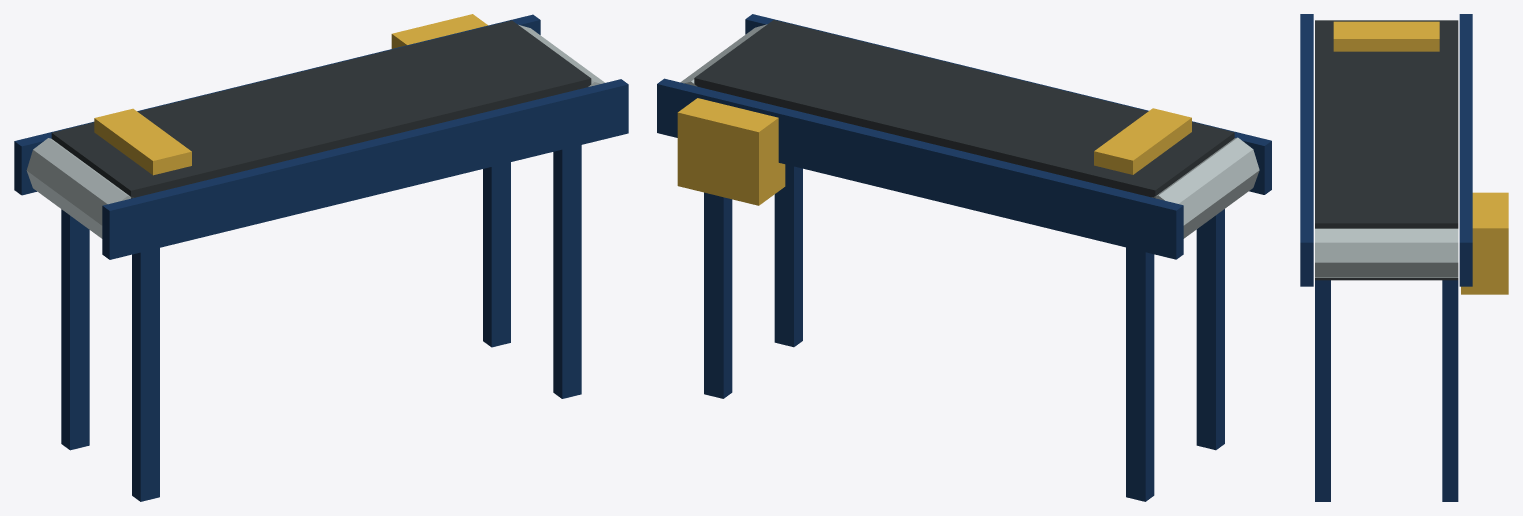
3 renders of one model, left to right at view 1: azimuth 30°, elevation 25°; view 2: azimuth 150°, elevation 25°; view 3: azimuth 270°, elevation 25°, orthographic. The views are drawn at different scales.
Parts seen in each view (by area): view 1: Belt and carriers, Frame and motor, Trestles, Return rollers; view 2: Belt and carriers, Frame and motor, Trestles, Return rollers; view 3: Belt and carriers, Frame and motor, Trestles, Return rollers.
Boxes of the visible parts, x1,y1,x2,y2 form: Belt and carriers: [51, 20, 591, 198]; Frame and motor: [14, 14, 628, 259]; Trestles: [61, 145, 581, 501]; Return rollers: [26, 24, 604, 238]; Belt and carriers: [694, 20, 1234, 198]; Frame and motor: [657, 14, 1271, 259]; Trestles: [704, 164, 1224, 501]; Return rollers: [680, 24, 1259, 238]; Belt and carriers: [1315, 20, 1458, 280]; Frame and motor: [1300, 14, 1508, 294]; Trestles: [1315, 280, 1458, 501]; Return rollers: [1315, 228, 1458, 277].
Bounding box in the file's own units: 2.65 × 1.6 × 1.02.
1 material, 1 textured.
